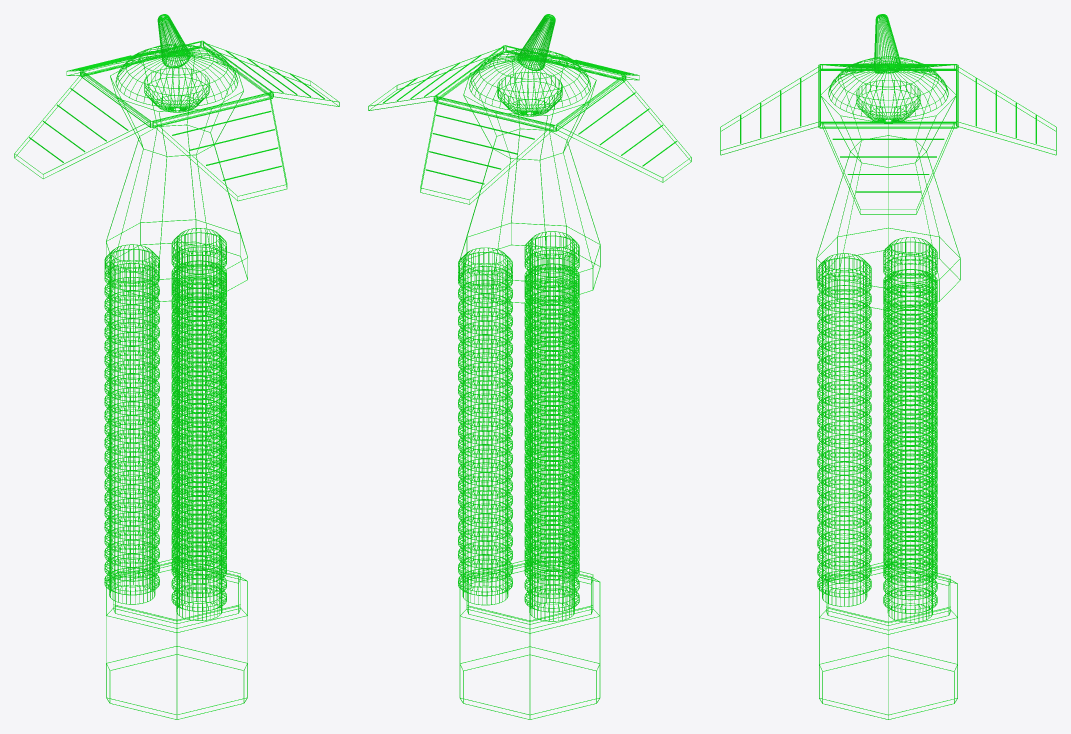
The model's file is solar-matrix-wireframe.glb.
3 views of the same model, side by side, from view 1: azimuth 30°, elevation 25°; view 2: azimuth 150°, elevation 25°; view 3: azimuth 270°, elevation 25° (orthographic).
Visible parts, largest first — view 1: storage-cells technical wire, chassis technical wire, laser-turret technical wire, solar-panels technical wire, solar-panels Collector hinge 4 technical wire, solar-panels Collector hinge 3 technical wire, solar-panels Collector hinge 1 technical wire, solar-panels Collector hinge 2 technical wire; view 2: storage-cells technical wire, chassis technical wire, laser-turret technical wire, solar-panels technical wire, solar-panels Collector hinge 2 technical wire, solar-panels Collector hinge 3 technical wire, solar-panels Collector hinge 1 technical wire, solar-panels Collector hinge 4 technical wire; view 3: storage-cells technical wire, chassis technical wire, laser-turret technical wire, solar-panels technical wire, solar-panels Collector hinge 1 technical wire, solar-panels Collector hinge 2 technical wire, solar-panels Collector hinge 4 technical wire.
Boxes of the visible parts, x1,y1,x2,y2 form: storage-cells technical wire: (104,228,226,620); chassis technical wire: (106,55,247,719); laser-turret technical wire: (115,14,238,112); solar-panels technical wire: (80,40,273,127); solar-panels Collector hinge 4 technical wire: (153,94,287,201); solar-panels Collector hinge 3 technical wire: (14,72,150,178); solar-panels Collector hinge 1 technical wire: (203,42,339,106); solar-panels Collector hinge 2 technical wire: (66,42,200,75); storage-cells technical wire: (458,231,579,621); chassis technical wire: (459,59,600,719); laser-turret technical wire: (469,14,590,116); solar-panels technical wire: (433,45,626,131); solar-panels Collector hinge 2 technical wire: (420,98,553,204); solar-panels Collector hinge 3 technical wire: (556,76,691,182); solar-panels Collector hinge 1 technical wire: (368,46,503,110); solar-panels Collector hinge 4 technical wire: (506,46,639,80); storage-cells technical wire: (817,237,937,622); chassis technical wire: (816,66,960,719); laser-turret technical wire: (828,14,948,123); solar-panels technical wire: (818,64,958,128); solar-panels Collector hinge 1 technical wire: (822,123,954,214); solar-panels Collector hinge 2 technical wire: (956,65,1056,155); solar-panels Collector hinge 4 technical wire: (720,65,820,155).
Bounding box in the file's own units: 1.68 × 3.68 × 1.68.
